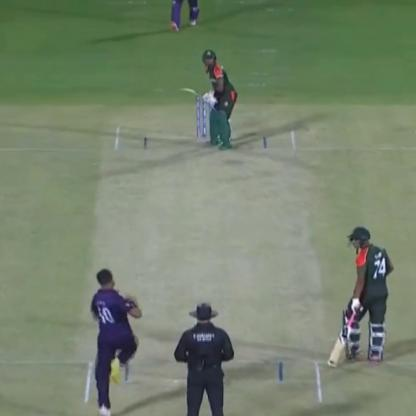bat: (328, 302, 362, 374), (172, 78, 213, 98)
pitch: (88, 123, 326, 408)
